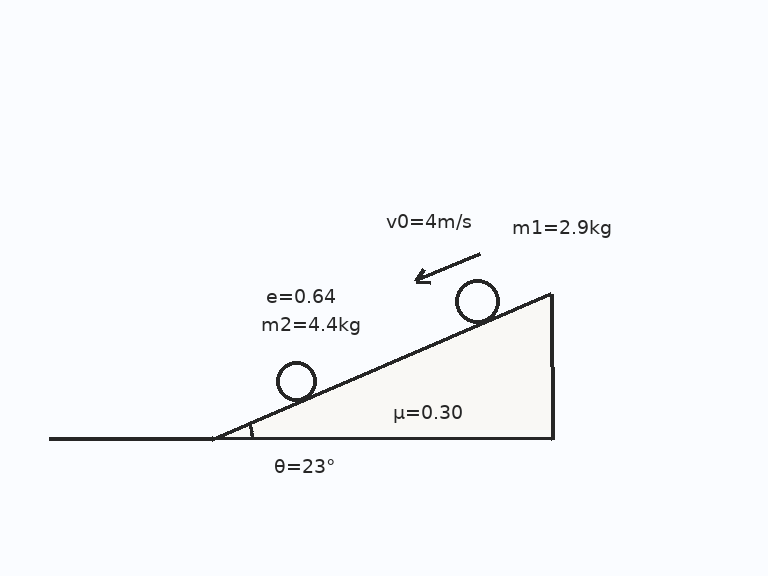ball: (453, 277, 501, 325), (274, 359, 318, 403)
ramp: (210, 292, 554, 440)
